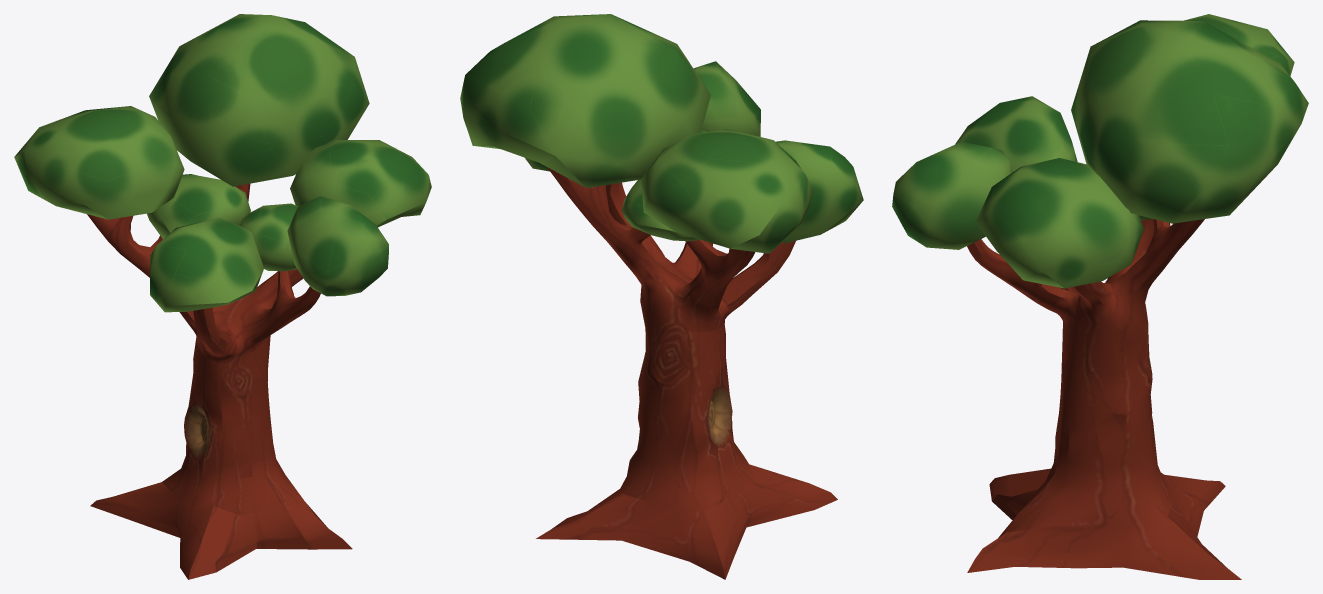
Rendered from ilk ağaç.fbx.
3 views of the same model, side by side, from view 1: azimuth 30°, elevation 25°; view 2: azimuth 150°, elevation 25°; view 3: azimuth 270°, elevation 25° (orthographic). The views are drawn at different scales.
Parts seen in each view (by area): view 1: Plane.001; view 2: Plane.001; view 3: Plane.001.
Part boxes in pixels (x1,y1,x2,y2): Plane.001: (14, 14, 431, 579); Plane.001: (460, 14, 863, 579); Plane.001: (892, 14, 1308, 579).
Size of the model in its own units: 947 by 1274 by 887.
Materials: 1 (1 with a texture image).
